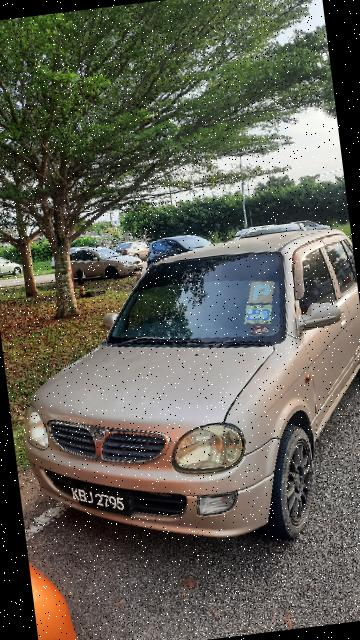License_Plate: (61, 470, 146, 528)
car: (1, 220, 360, 575)
